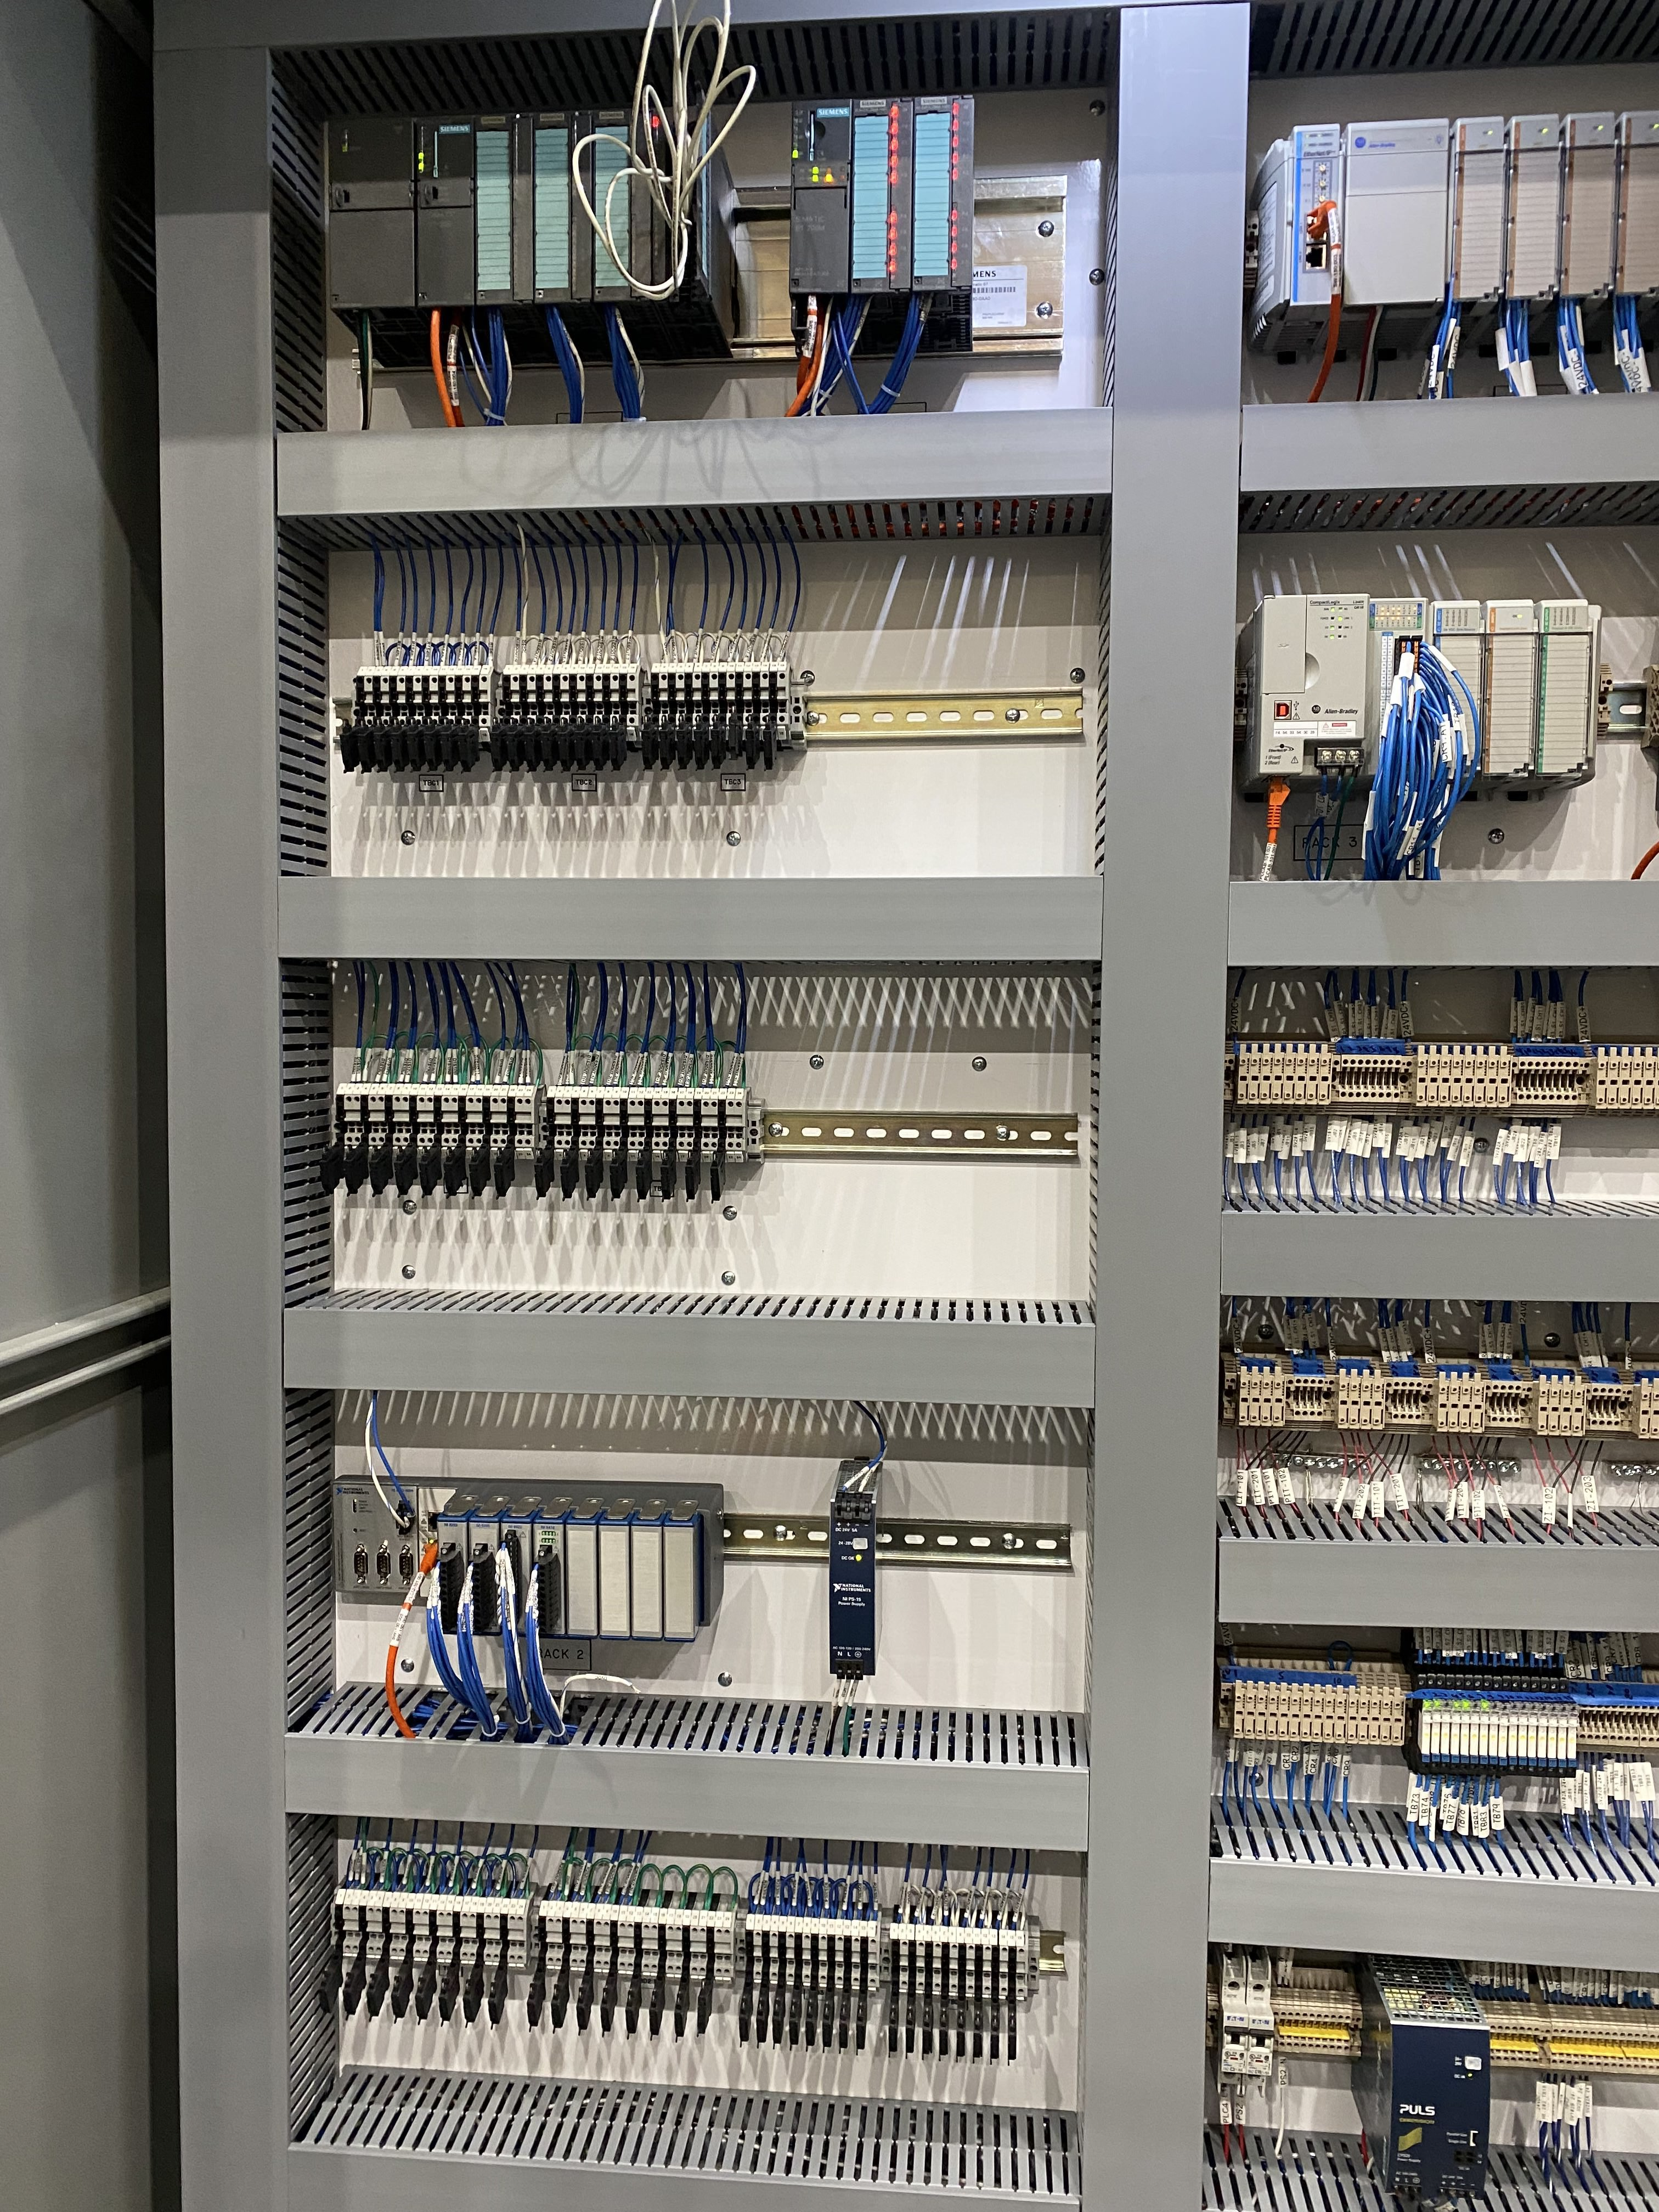AllenBradley: (1258, 596, 1373, 784)
Siemens: (415, 117, 474, 307)
